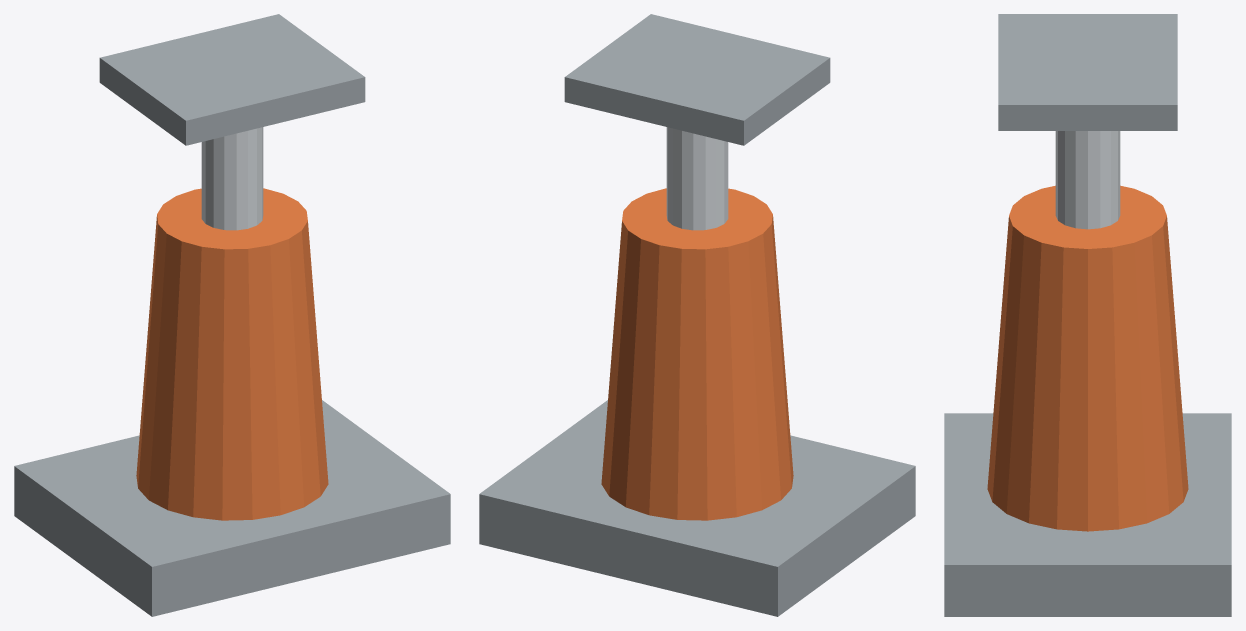
Rendered from long-haul-trucking-and-truck-stop-bottle-jack-d2ca33ab__14019.glb.
The picture shows the model from 3 angles, left to right: view 1: azimuth 30°, elevation 25°; view 2: azimuth 150°, elevation 25°; view 3: azimuth 270°, elevation 25°; orthographic projection. The views are drawn at different scales.
Visible parts, largest first — view 1: bottle-jack; view 2: bottle-jack; view 3: bottle-jack.
Part boxes in pixels (left/top/right/bottom): bottle-jack: left=14, top=14, right=450, bottom=616; bottle-jack: left=479, top=14, right=915, bottom=616; bottle-jack: left=944, top=14, right=1231, bottom=616.
Size of the model in its own units: 0.5 by 0.74 by 0.4.
